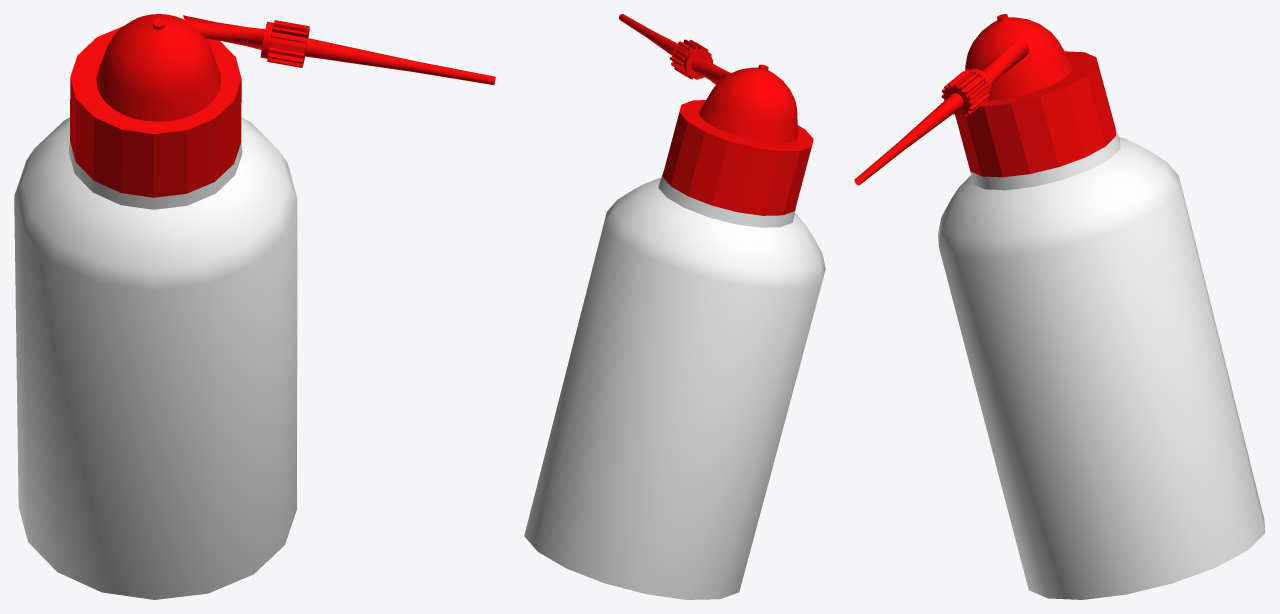
3 renders of one model, left to right at view 1: azimuth 30°, elevation 25°; view 2: azimuth 150°, elevation 25°; view 3: azimuth 270°, elevation 25°, orthographic. The views are drawn at different scales.
Visible parts, largest first — view 1: Line005, 对象001, Line002, Line004; view 2: Line005, 对象001, Line002, Line004; view 3: Line005, 对象001, Line002, Line004.
Part boxes in pixels (box(x1,y1,x2,y2)): Line005: box(14, 117, 297, 599); 对象001: box(70, 25, 241, 197); Line002: box(96, 14, 221, 121); Line004: box(183, 15, 495, 84); Line005: box(524, 170, 825, 599); 对象001: box(662, 100, 813, 215); Line002: box(699, 64, 797, 143); Line004: box(619, 14, 730, 84); Line005: box(938, 128, 1265, 599); 对象001: box(955, 51, 1115, 177); Line002: box(965, 14, 1072, 100); Line004: box(854, 39, 1028, 185).
Bounding box in the file's own units: 449 × 739 × 513.
